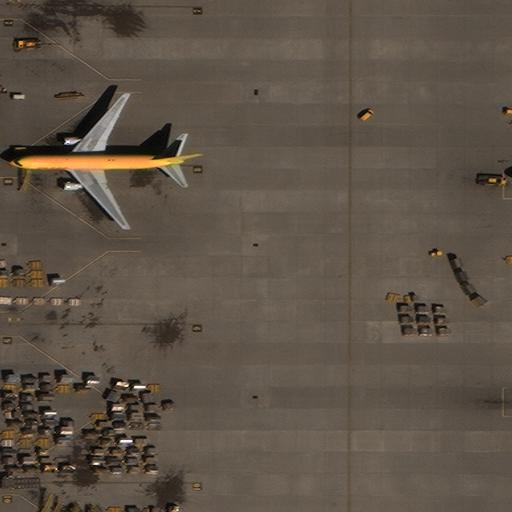Large Civil Transport: (8, 93, 202, 230)
